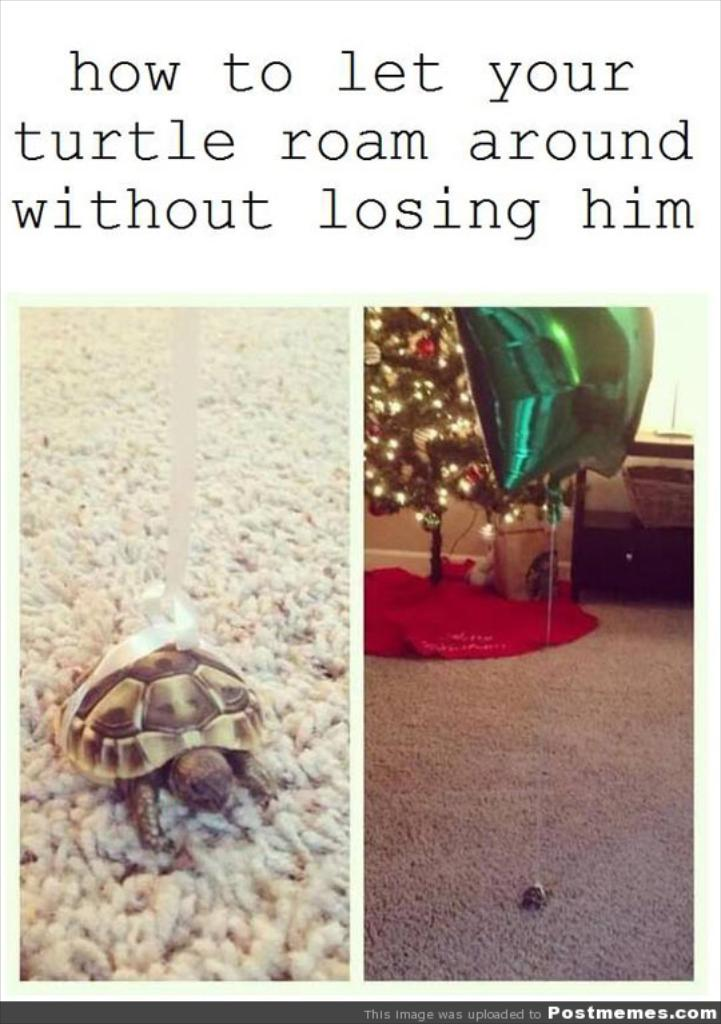Sea turtles: (38, 614, 264, 854)
